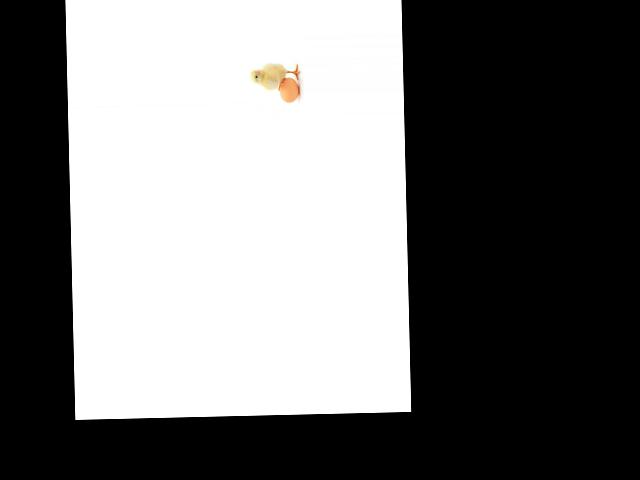egg: (279, 76, 299, 102)
